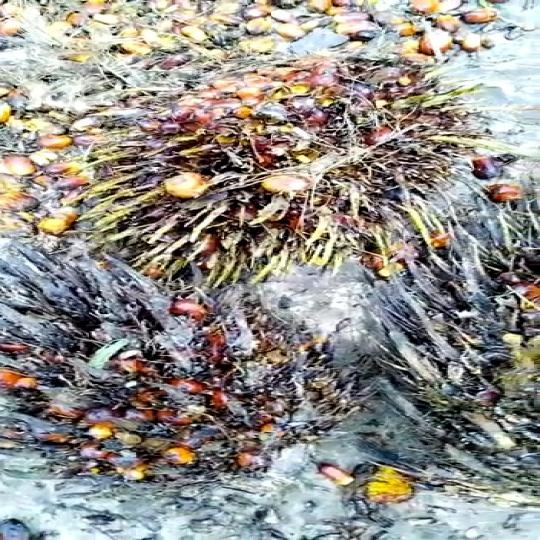terlalu masak: (50, 43, 495, 288), (0, 248, 347, 491)
